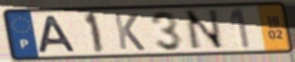1: (82, 11, 108, 55), (226, 7, 252, 51)
3: (149, 9, 185, 53)
A: (37, 15, 79, 55)
K: (112, 12, 148, 52)
N: (183, 8, 228, 52)
